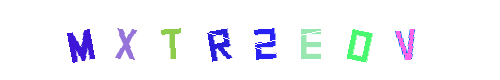0: (355, 0, 435, 80)
2: (269, 0, 349, 80)
E: (319, 0, 399, 80)
M: (119, 0, 199, 80)
R: (211, 0, 291, 80)
T: (135, 0, 215, 80)
V: (366, 0, 446, 80)
X: (132, 0, 212, 80)
